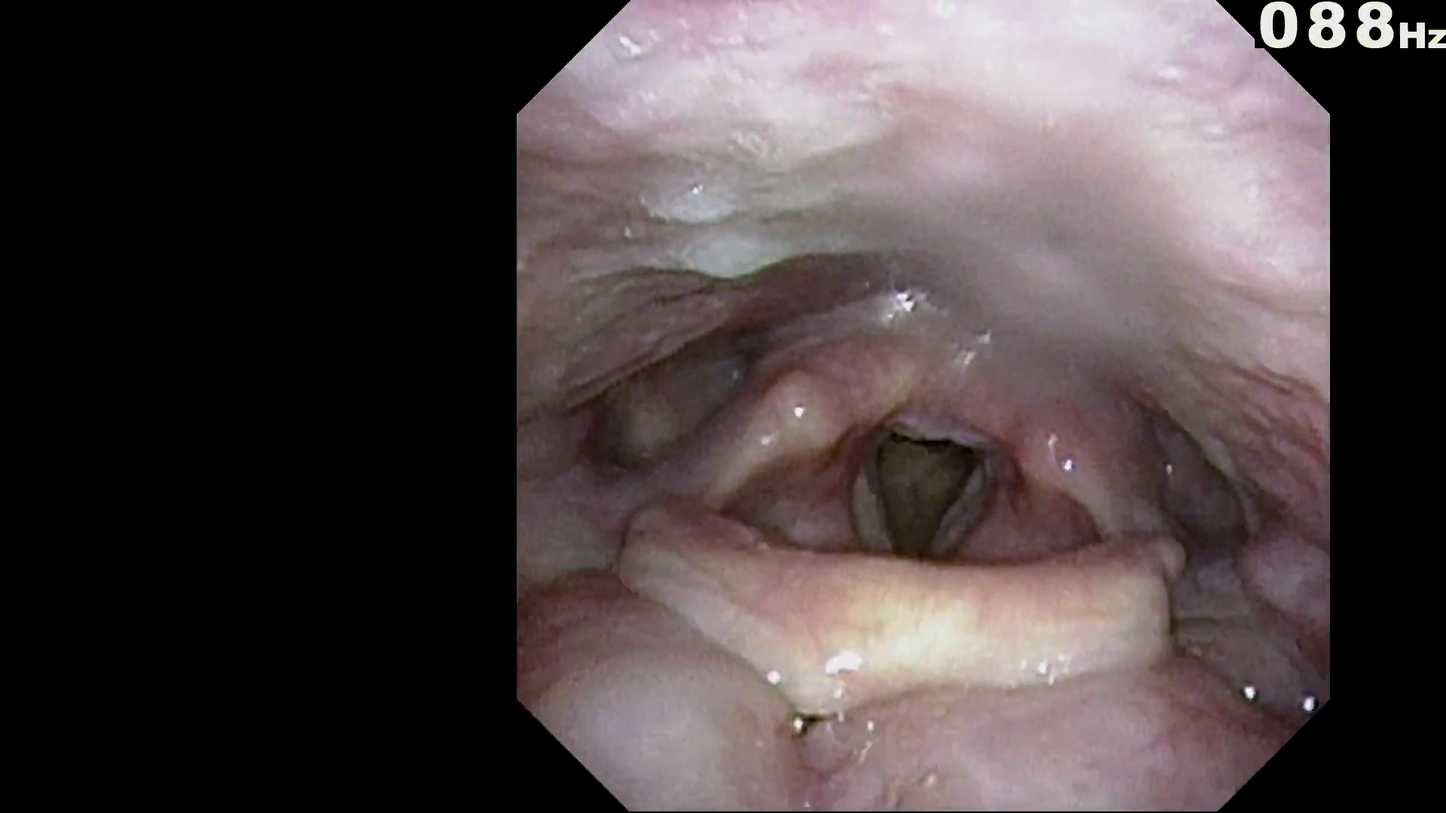epiglottis: (623, 533, 1181, 720)
trachea: (865, 425, 988, 572)
